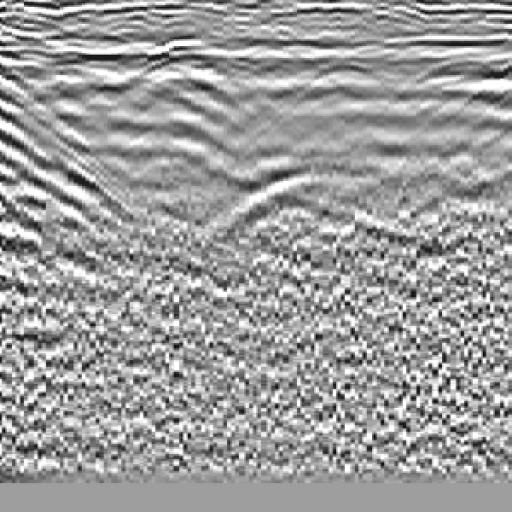metalic: (192, 30, 384, 294)
nonmetalic: (1, 27, 104, 253)
